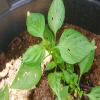Bell_pepper leaf: (59, 28, 97, 64), (47, 0, 64, 34), (25, 10, 44, 39), (22, 46, 46, 66), (47, 70, 62, 99)
